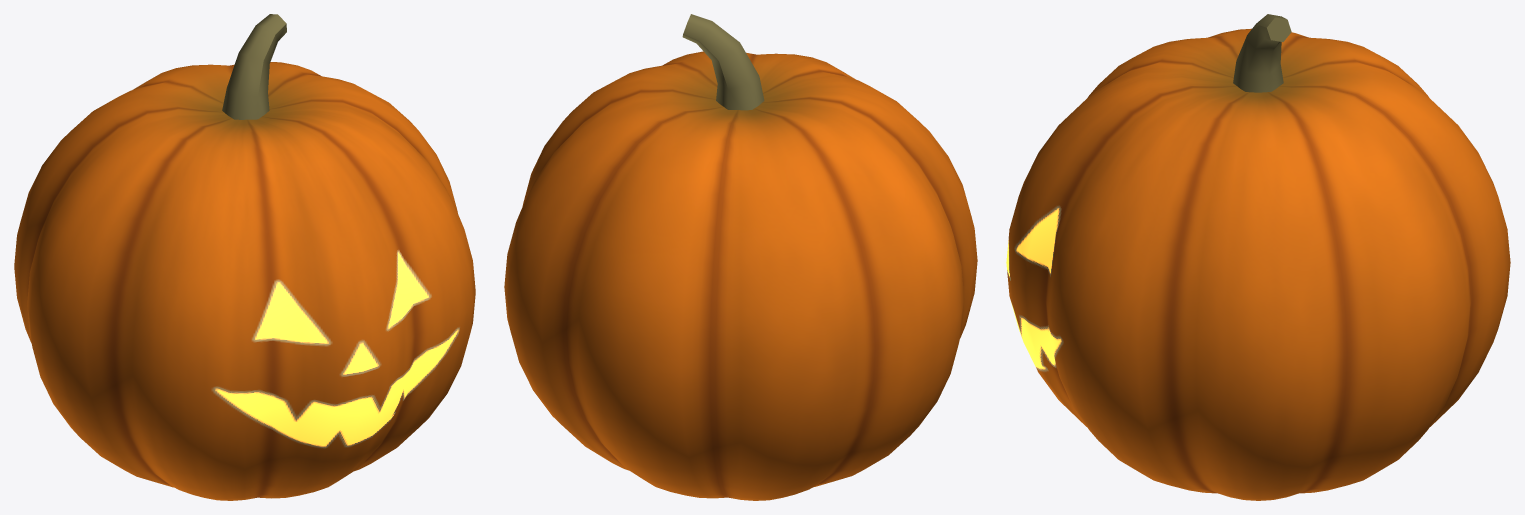
File: jack_o_lantern.glb
3 views of the same model, side by side, from view 1: azimuth 30°, elevation 25°; view 2: azimuth 150°, elevation 25°; view 3: azimuth 270°, elevation 25° (orthographic). The views are drawn at different scales.
Parts seen in each view (by area): view 1: jack_o_lantern; view 2: jack_o_lantern; view 3: jack_o_lantern.
Boxes of the visible parts, x1,y1,x2,y2 form: jack_o_lantern: (14,14,475,500); jack_o_lantern: (504,14,977,500); jack_o_lantern: (1006,14,1510,500).
Bounding box in the file's own units: 0.34 × 0.3473 × 0.34.
Materials: 2 (1 with a texture image).
